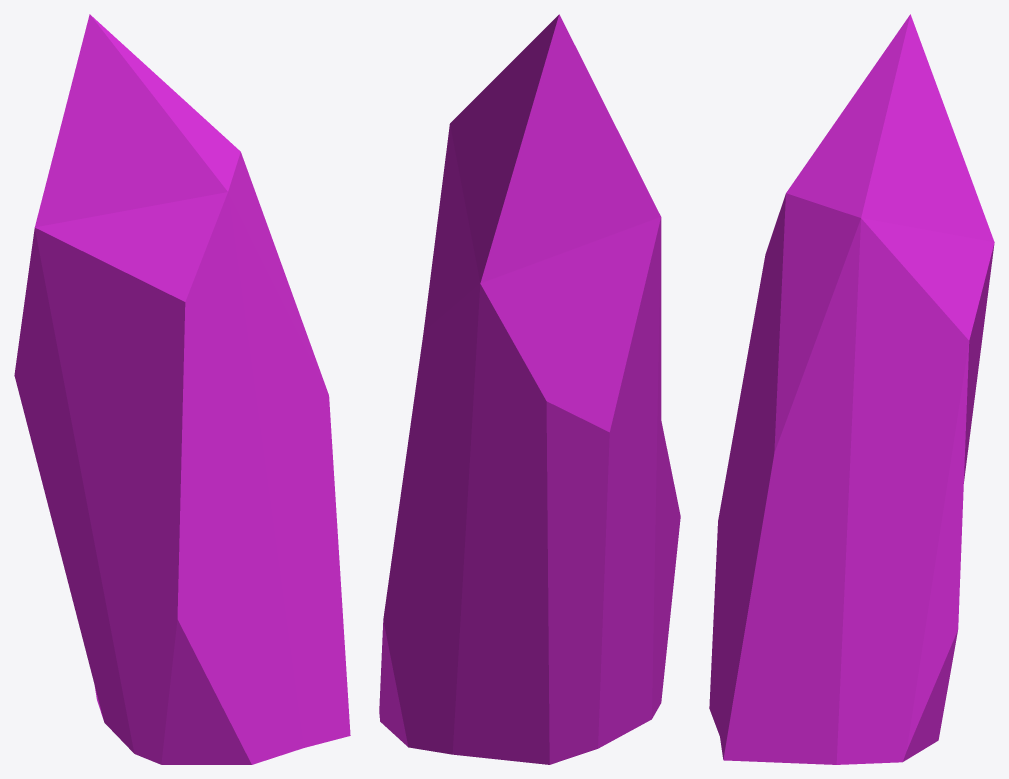
Rendered from Boss Crystal.fbx.
The picture shows the model from 3 angles, left to right: view 1: azimuth 30°, elevation 25°; view 2: azimuth 150°, elevation 25°; view 3: azimuth 270°, elevation 25°; orthographic projection. The views are drawn at different scales.
Parts seen in each view (by area): view 1: boss crystal; view 2: boss crystal; view 3: boss crystal.
Part boxes in pixels (x1,y1,x2,y2): boss crystal: [14, 14, 350, 764]; boss crystal: [379, 14, 680, 764]; boss crystal: [709, 14, 994, 764].
Size of the model in its own units: 0.5796 by 1.55 by 0.5979.
